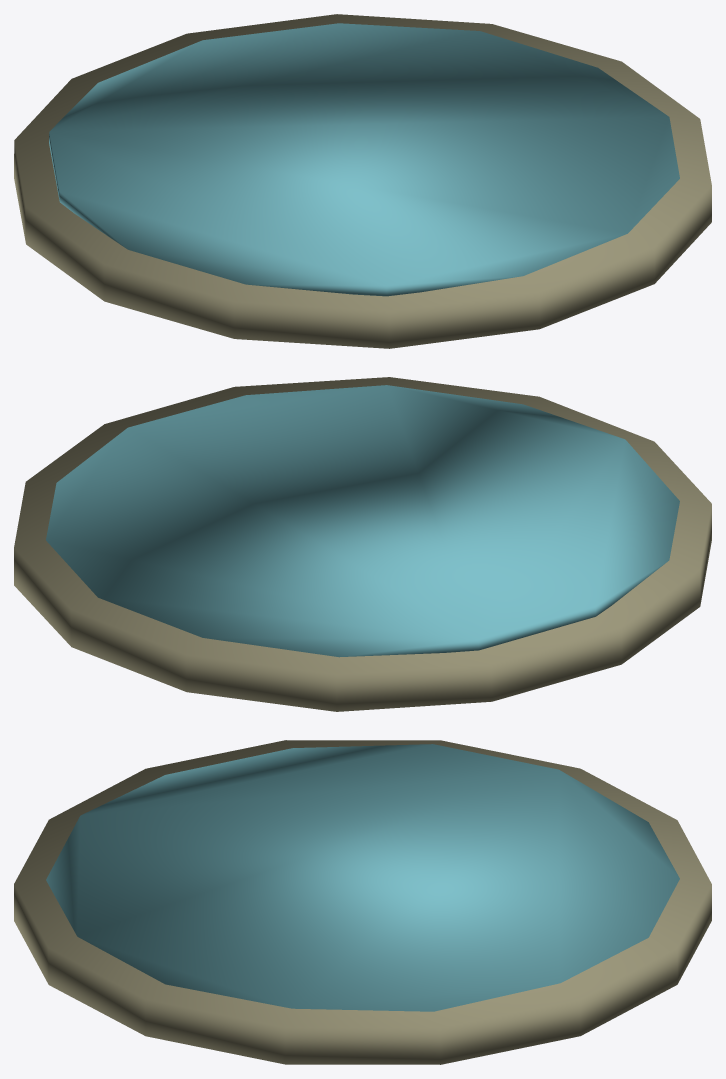
The model's file is SM_Warmerdamm_Pond_LOD2.fbx.
The picture shows the model from 3 angles, top to bottom: view 1: azimuth 30°, elevation 25°; view 2: azimuth 150°, elevation 25°; view 3: azimuth 270°, elevation 25°; orthographic projection.
Parts seen in each view (by area): view 1: SM_Warmerdamm_Pond_LOD2; view 2: SM_Warmerdamm_Pond_LOD2; view 3: SM_Warmerdamm_Pond_LOD2.
Part boxes in pixels (<box>): SM_Warmerdamm_Pond_LOD2: <box>14,14,711,348</box>; SM_Warmerdamm_Pond_LOD2: <box>14,377,711,711</box>; SM_Warmerdamm_Pond_LOD2: <box>14,740,711,1064</box>.
Size of the model in its own units: 2.92 by 0.227 by 3.
